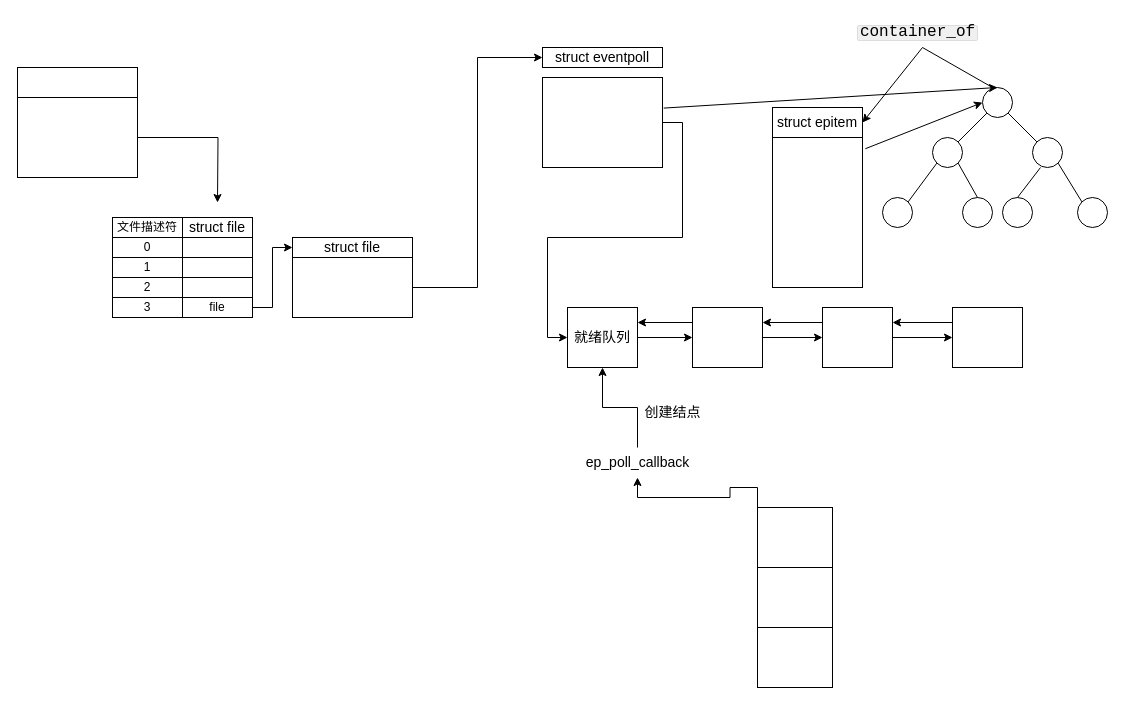
The diagram is 1125 pixels wide and 705 high, and some of its shapes have lost their labels. Here are the shapes that lost their labels. From the top down, the centre of each, then its label:
(x=77, y=82): struct task_struct
(x=77, y=137): struct files_struct *files
(x=602, y=122): struct rb_root rbr; struct list_head rdlist;
(x=817, y=212): struct rb_node* rbn; int fd; struct list_head rdllink;
(x=352, y=287): void*
(x=794, y=537): 传输层
